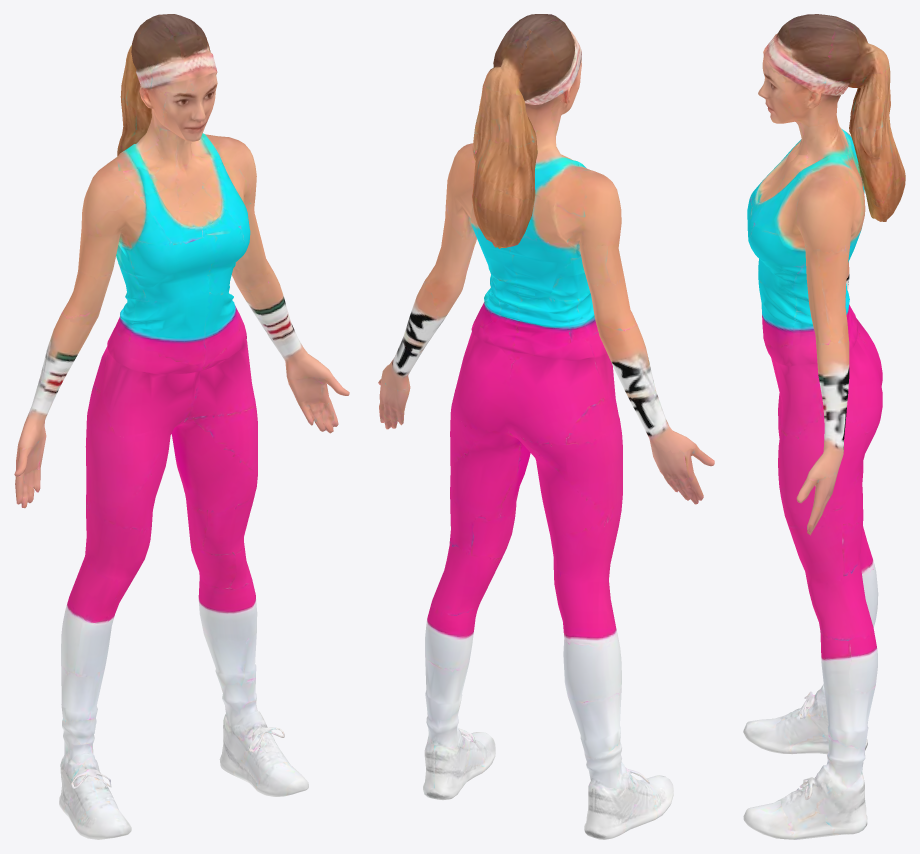
File: jogger.glb
The picture shows the model from 3 angles, left to right: view 1: azimuth 30°, elevation 25°; view 2: azimuth 150°, elevation 25°; view 3: azimuth 270°, elevation 25°; orthographic projection.
Bounding box in the file's own units: 0.8529 × 1.9 × 0.3613.
1 material, 1 textured.
